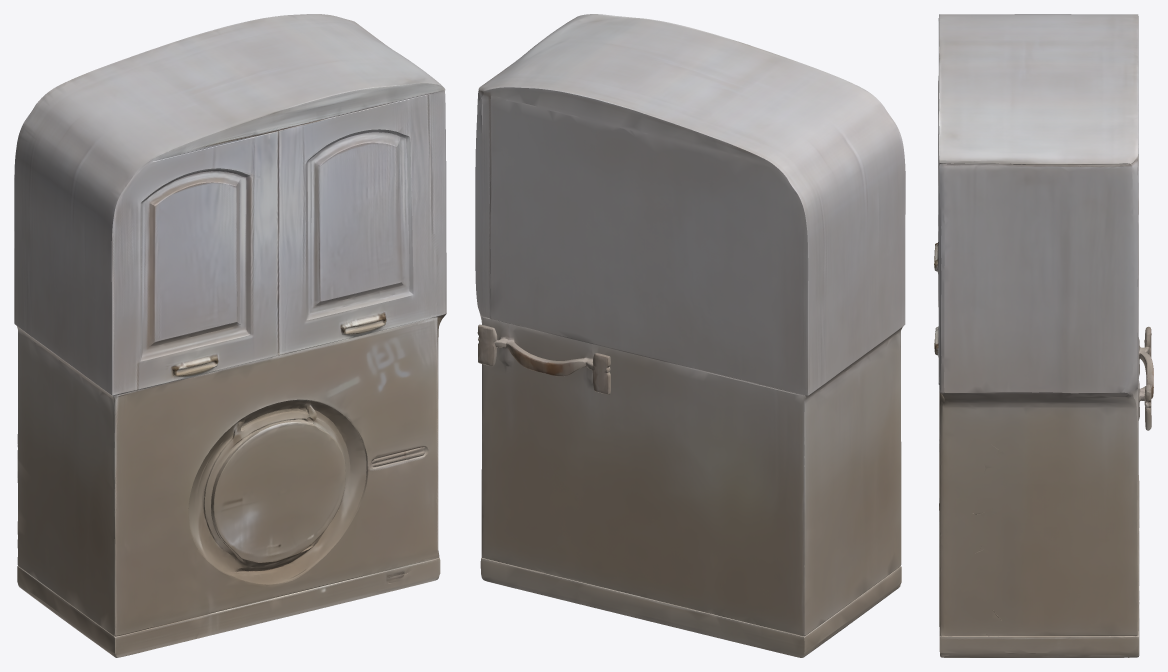
File: oil-seasoning-bottles.glb
The picture shows the model from 3 angles, left to right: view 1: azimuth 30°, elevation 25°; view 2: azimuth 150°, elevation 25°; view 3: azimuth 270°, elevation 25°; orthographic projection. The views are drawn at different scales.
Parts seen in each view (by area): view 1: model; view 2: model; view 3: model.
Boxes of the visible parts, x1,y1,x2,y2 form: model: (14,14,446,657); model: (475,14,905,657); model: (934,14,1153,657).
Size of the model in its own units: 1.31 by 1.89 by 0.7229.
Materials: 1 (1 with a texture image).
